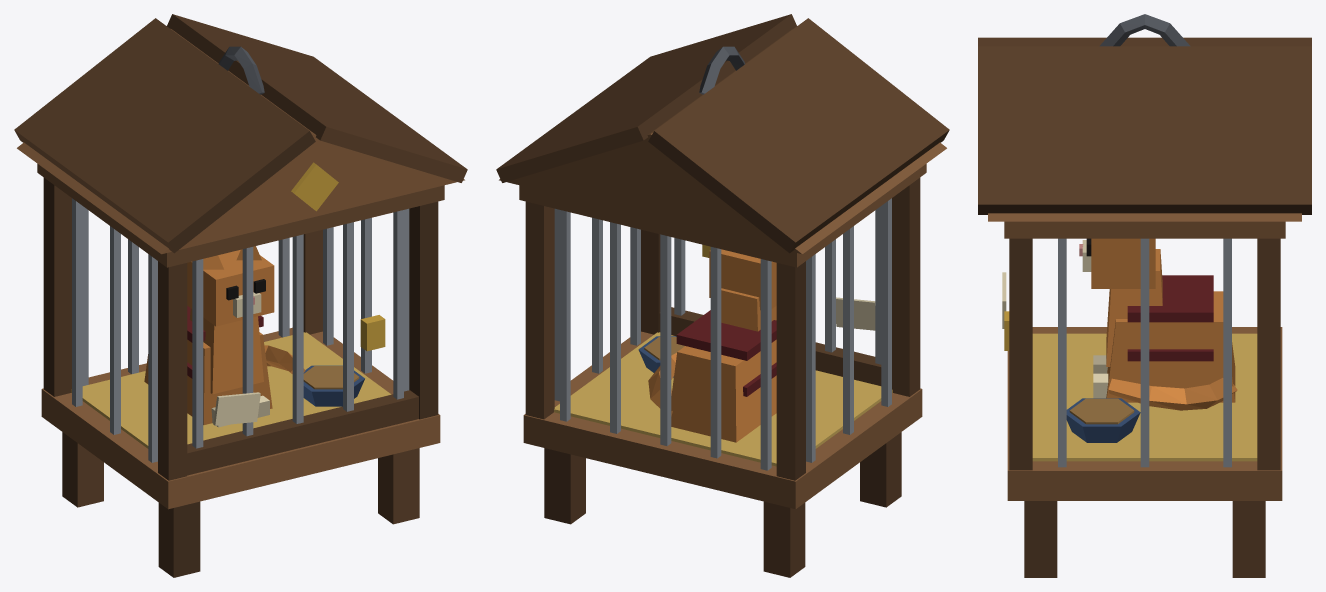
Rendered from cage_cat.glb.
3 views of the same model, side by side, from view 1: azimuth 30°, elevation 25°; view 2: azimuth 150°, elevation 25°; view 3: azimuth 270°, elevation 25° (orthographic). The views are drawn at different scales.
Parts seen in each view (by area): view 1: cage_cat; view 2: cage_cat; view 3: cage_cat.
Part boxes in pixels (left/top/right/bottom): cage_cat: left=14, top=14, right=467, bottom=577; cage_cat: left=496, top=14, right=949, bottom=577; cage_cat: left=978, top=14, right=1311, bottom=577.
Size of the model in its own units: 1.15 by 1.66 by 1.01.
